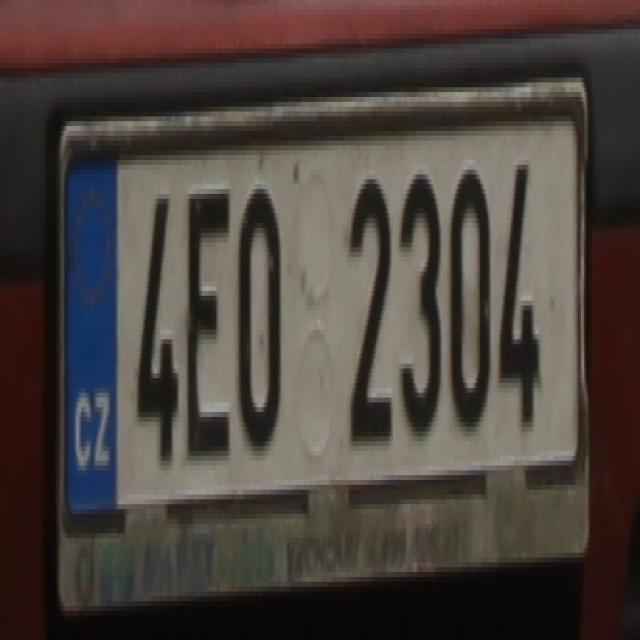0: (238, 184, 281, 456), (448, 165, 490, 417)
2: (344, 170, 392, 441)
3: (396, 165, 441, 422)
4: (494, 155, 547, 422), (134, 189, 180, 466)
E: (185, 184, 234, 456)
